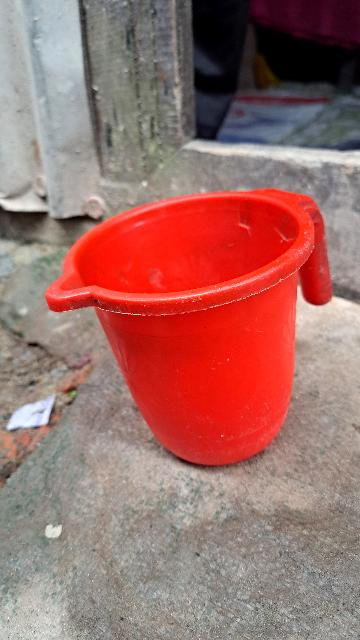hardplastic: (87, 190, 331, 460)
